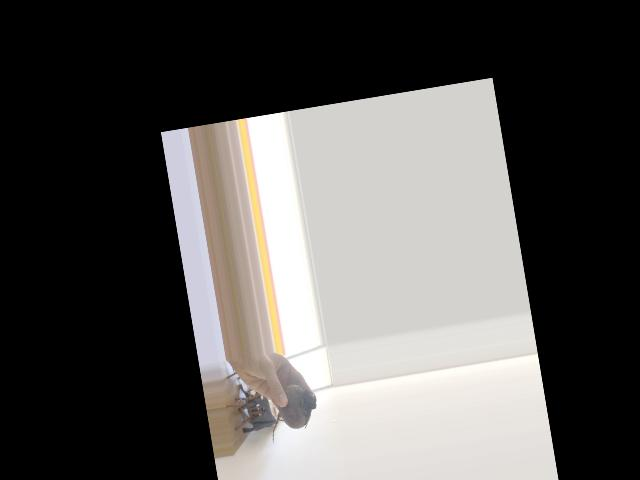beet: (264, 381, 322, 445)
